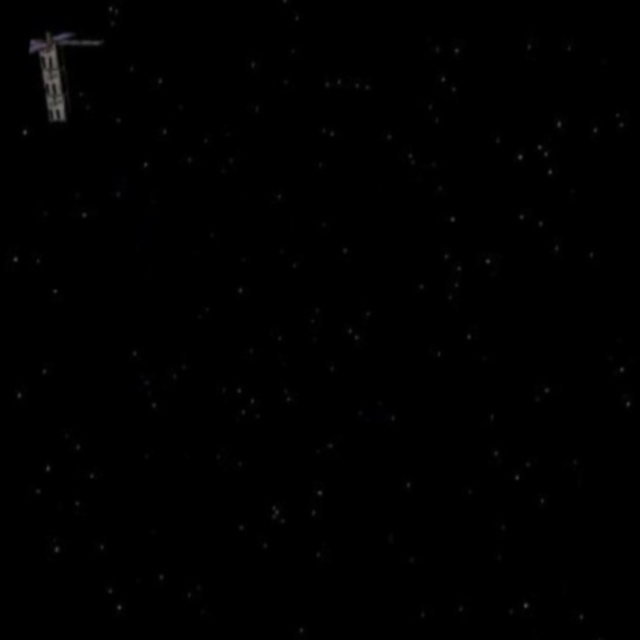medium_debris: (21, 16, 110, 134)
